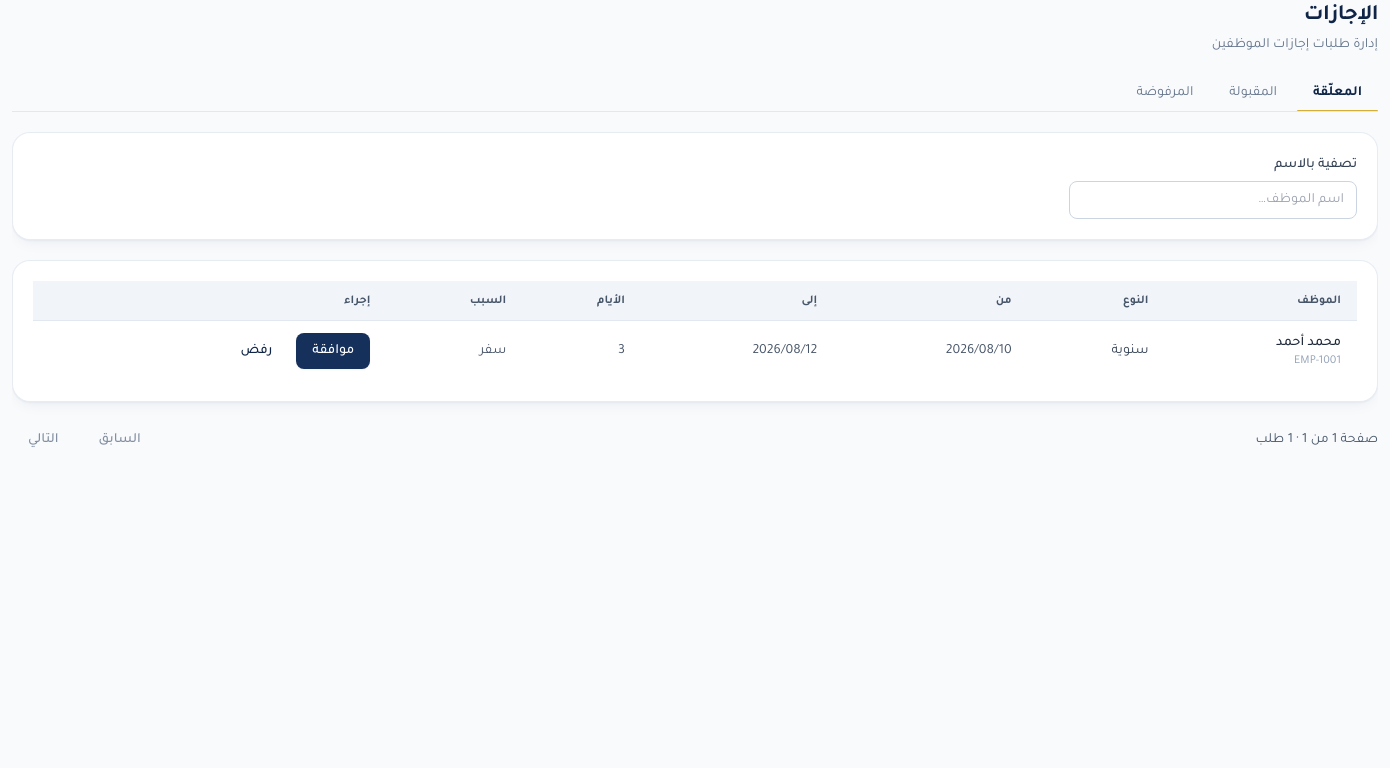
Test: HrLeavePage › يوافق على طلب فيرسل POST approve ويظهر توست نجاح
Check: the text "محمد أحمد" is shown, box x1=1276 y1=336 x2=1341 y2=350
Click the button "موافقة".
click(333, 351)  # box x1=296 y1=333 x2=370 y2=369
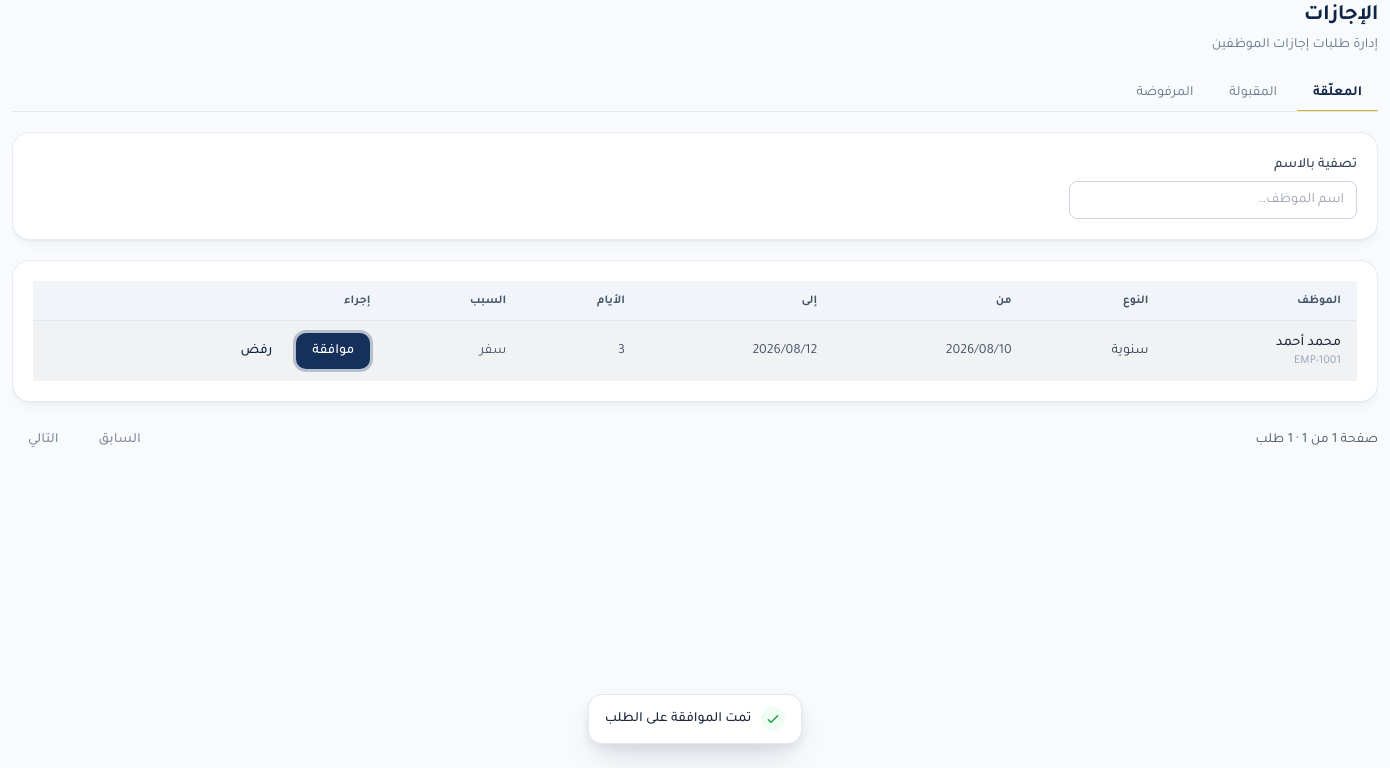
Check: the text "تمت الموافقة على الطلب" is shown, box x1=605 y1=709 x2=751 y2=729
